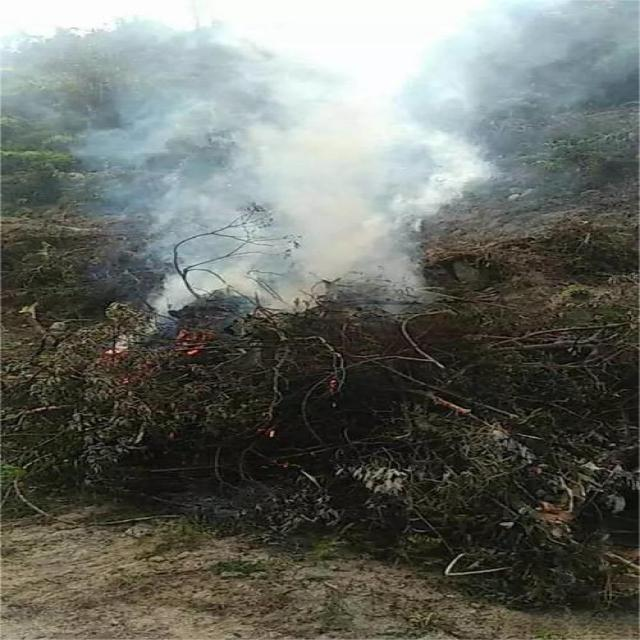Smoke: (81, 2, 504, 304)
